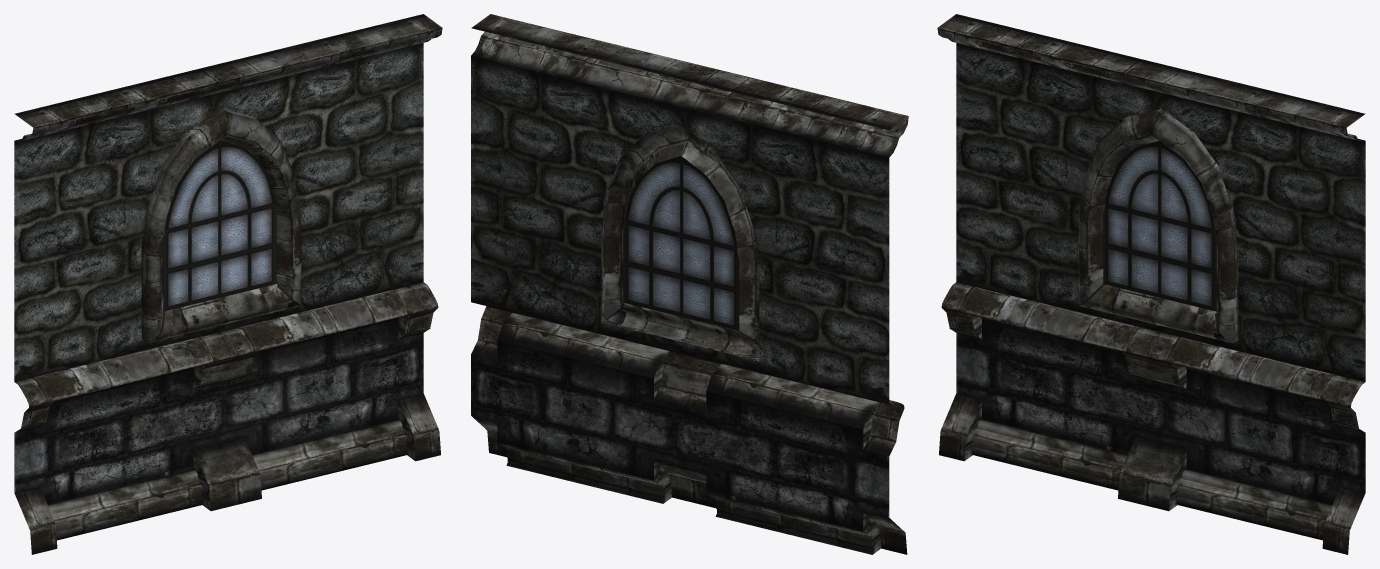
Rendered from window_blue01.DAE.
3 renders of one model, left to right at view 1: azimuth 30°, elevation 25°; view 2: azimuth 150°, elevation 25°; view 3: azimuth 330°, elevation 25°, orthographic. The views are drawn at different scales.
Parts seen in each view (by area): view 1: Object049, Object051, Object052; view 2: Object049, Object051, Object052; view 3: Object049, Object051, Object052.
Part boxes in pixels (box(x1,y1,x2,y2)): Object049: box(14, 14, 442, 554); Object051: box(163, 140, 276, 311); Object052: box(141, 108, 301, 343); Object049: box(471, 14, 908, 554); Object051: box(623, 156, 739, 330); Object052: box(601, 124, 759, 361); Object049: box(937, 14, 1365, 554); Object051: box(1103, 140, 1216, 311); Object052: box(1078, 108, 1238, 343).
Bounding box in the file's own units: 4 × 4 × 0.3222.
